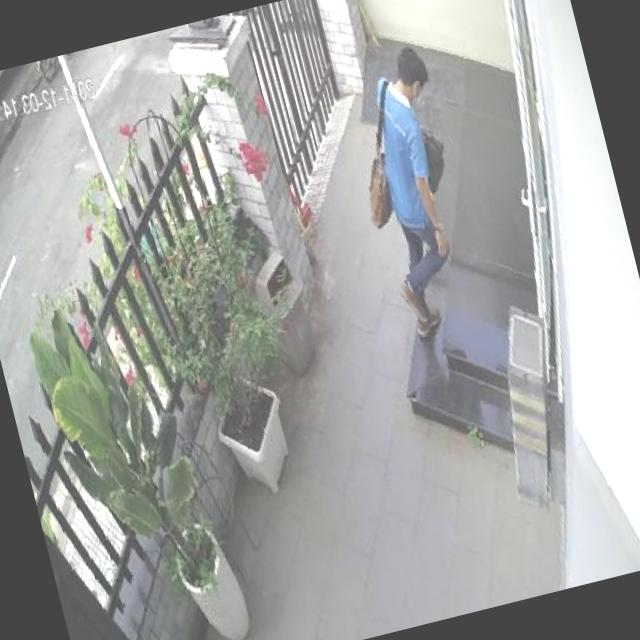Person: (340, 42, 489, 342)
